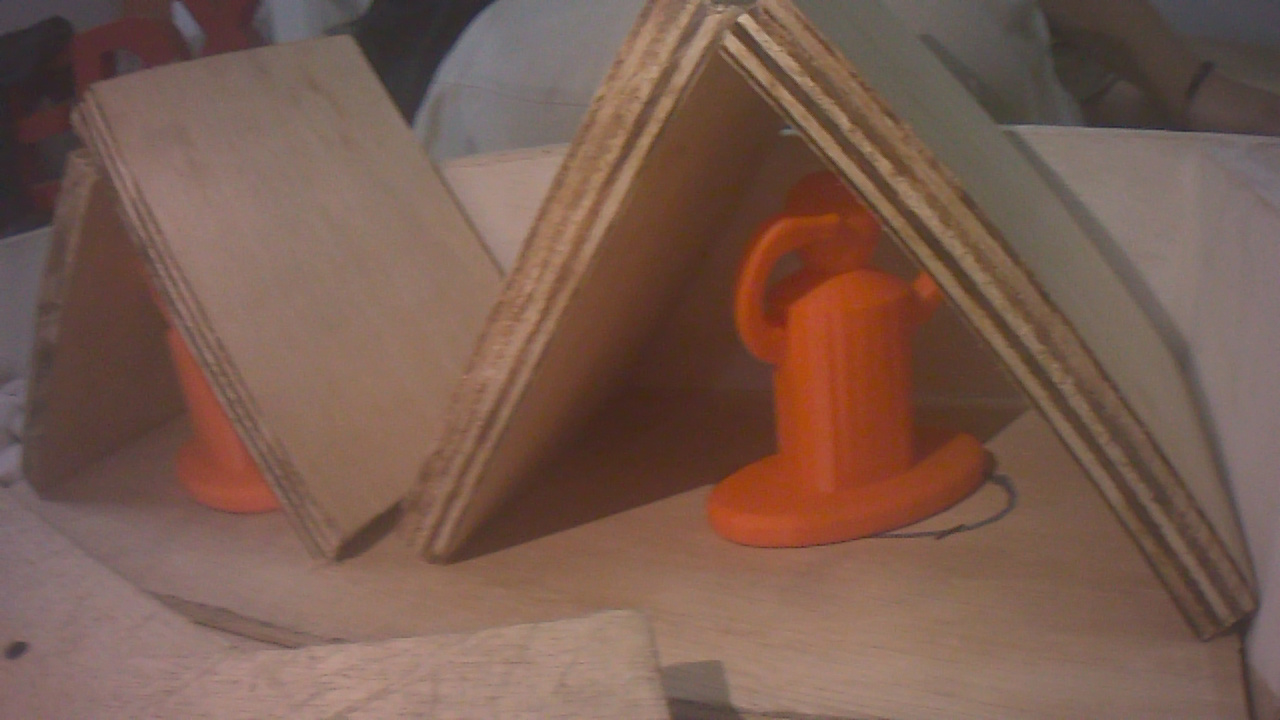real: (703, 165, 981, 560)
